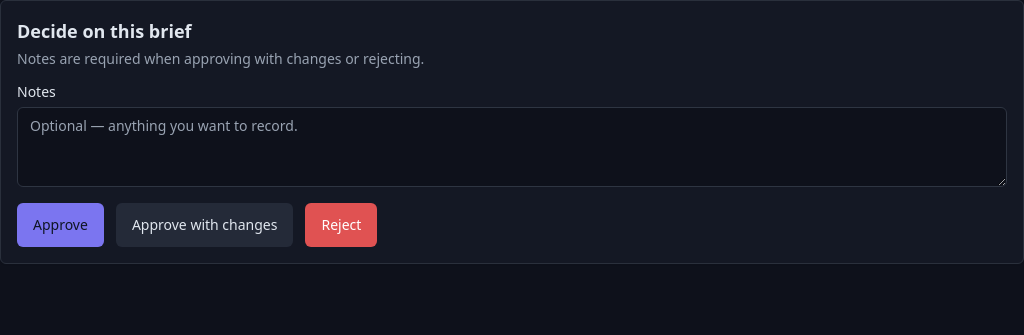
ApprovalGate › requires notes when clicking Reject
Step 1. Click the button "Reject" → [341, 225], box x1=305 y1=203 x2=377 y2=247
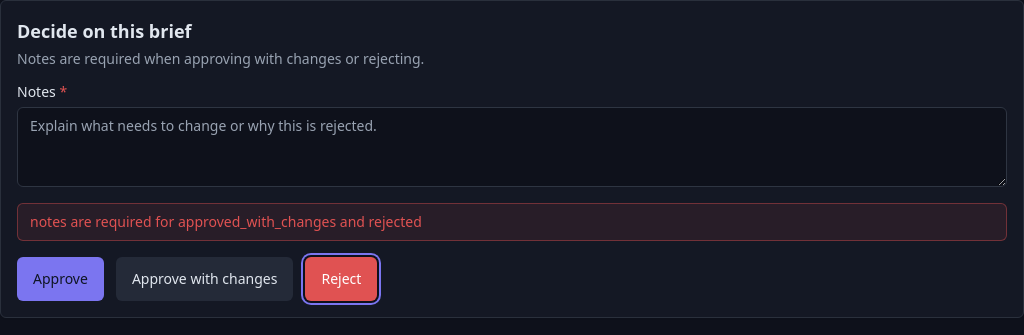
Expected: the message "notes are required for approved_with_changes and rejected" is shown, x1=17 y1=203 x2=1007 y2=241
